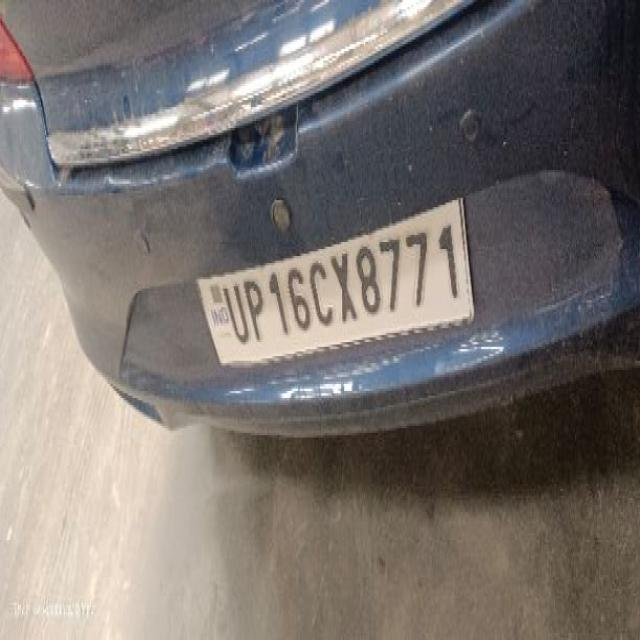license_plate: (1, 0, 638, 442), (194, 193, 475, 368)
